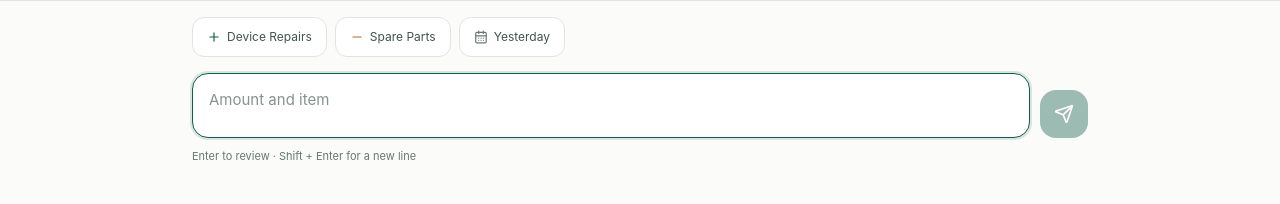
Test: shop-specific chat composer › retains the typed text when review fails and blocks duplicate submissions
Type "Device Repairs 500" into the text box named "Ledger entry" at x=611, y=102, box [193,74,1029,130]
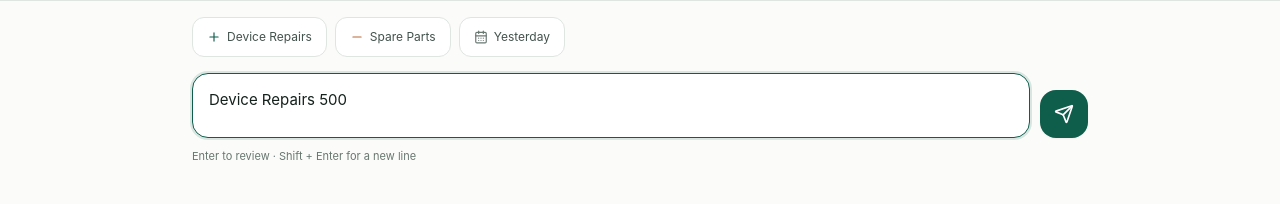
Click the button named "Send entry" at x=1064, y=114, box [1040,90,1088,138]
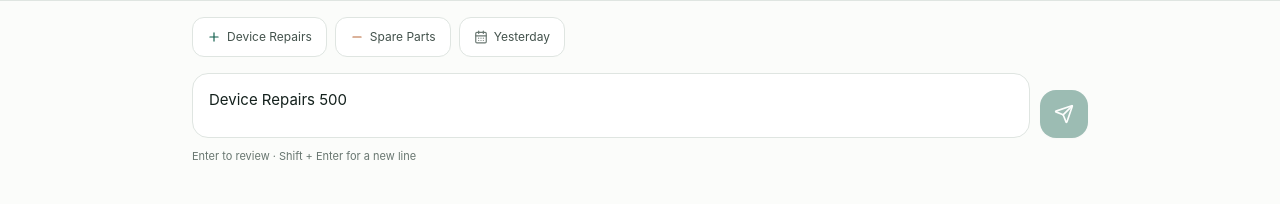
Click the button named "Send entry" at x=1064, y=114, box [1040,90,1088,138]
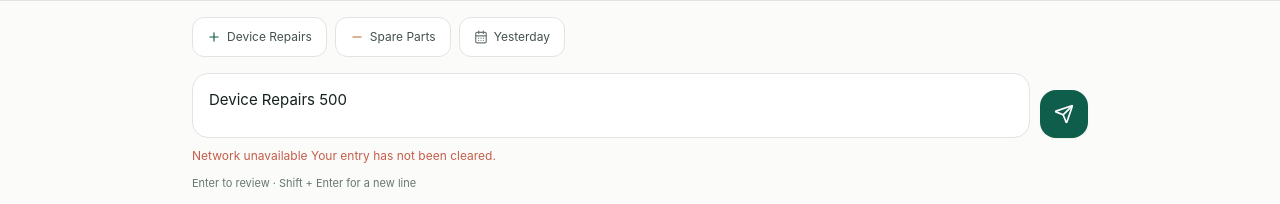
Check: the message shows "Network unavailable", box [192,148,308,163]
